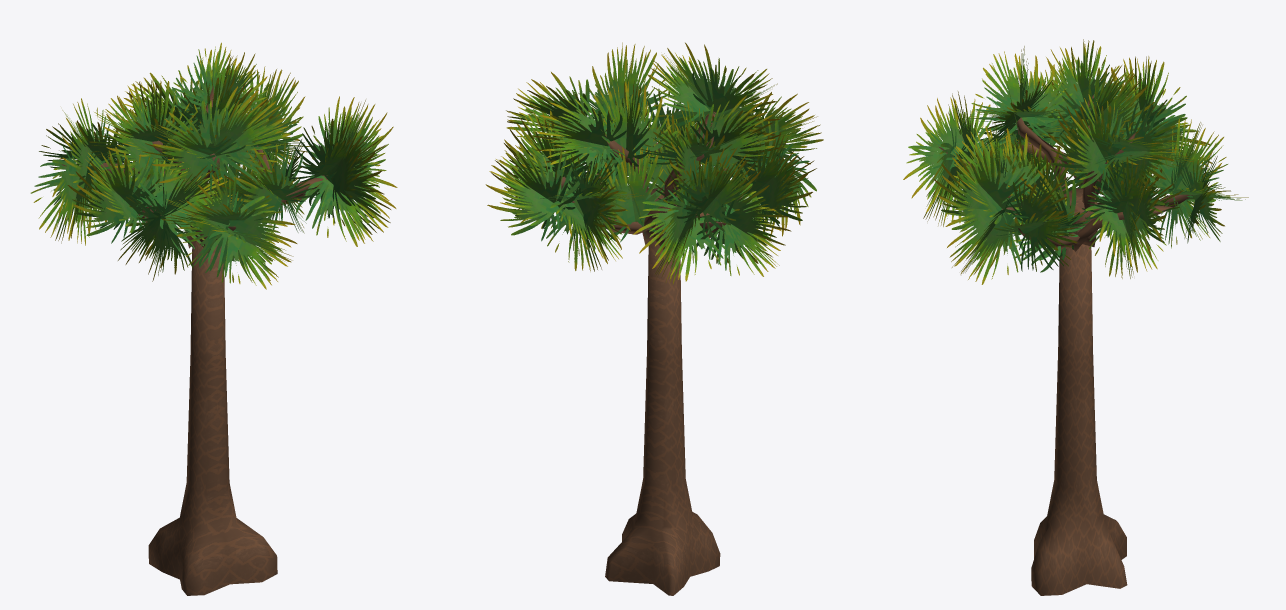
The model's file is Tropic Jungle Tree 1.fbx.
3 views of the same model, side by side, from view 1: azimuth 30°, elevation 25°; view 2: azimuth 150°, elevation 25°; view 3: azimuth 270°, elevation 25° (orthographic).
Visible parts, largest first — view 1: Tree 1 Leaves, Tree 1; view 2: Tree 1 Leaves, Tree 1; view 3: Tree 1 Leaves, Tree 1.
Boxes of the visible parts, bbox=[...] form: Tree 1 Leaves: bbox=[30, 42, 397, 289]; Tree 1: bbox=[61, 86, 327, 595]; Tree 1 Leaves: bbox=[485, 42, 823, 284]; Tree 1: bbox=[556, 111, 743, 595]; Tree 1 Leaves: bbox=[903, 39, 1248, 284]; Tree 1: bbox=[938, 95, 1192, 595].
Bounding box in the file's own units: 1413 × 2002 × 1349.
